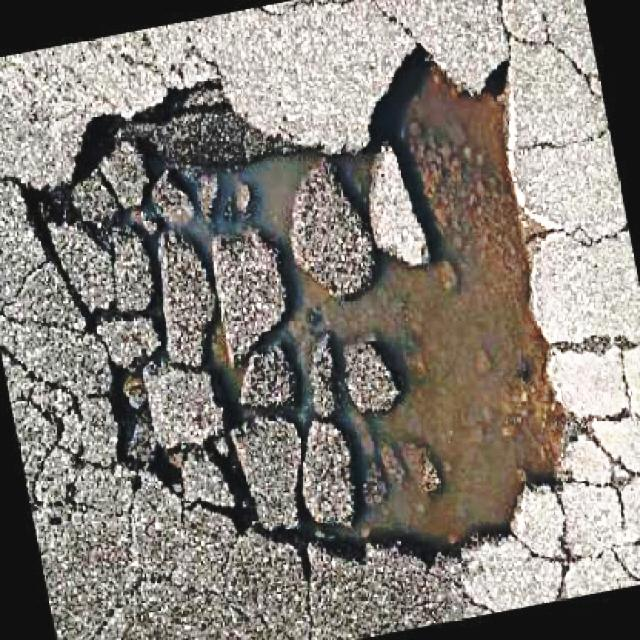pothole: (20, 40, 582, 572)
